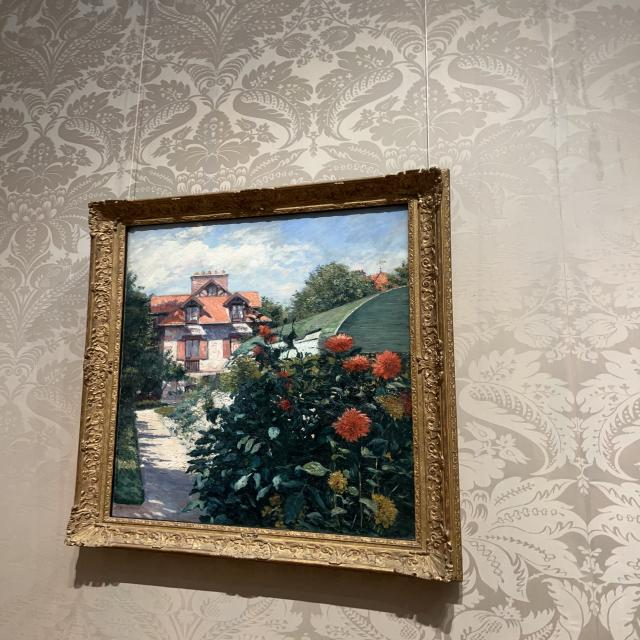summer: (113, 212, 410, 538)
